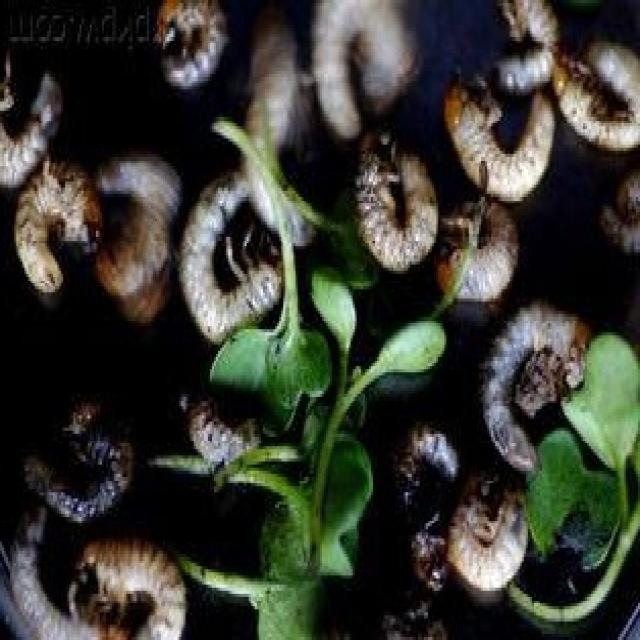grub: (1, 403, 197, 640), (477, 309, 593, 487), (180, 172, 284, 347), (295, 4, 416, 152), (546, 36, 638, 175), (443, 80, 555, 187), (11, 169, 101, 295), (88, 164, 171, 300), (352, 138, 441, 264), (433, 204, 523, 321), (441, 492, 539, 599), (485, 14, 569, 100), (181, 390, 265, 467), (151, 7, 226, 93)
